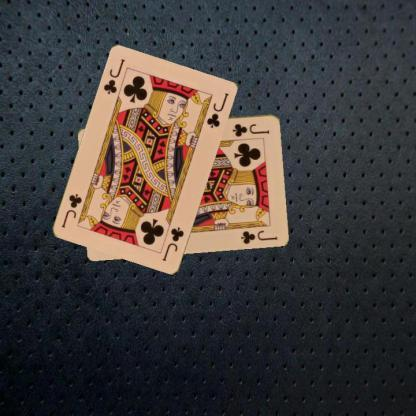Jc: (160, 225, 186, 263), (102, 57, 127, 96), (230, 121, 271, 138)
